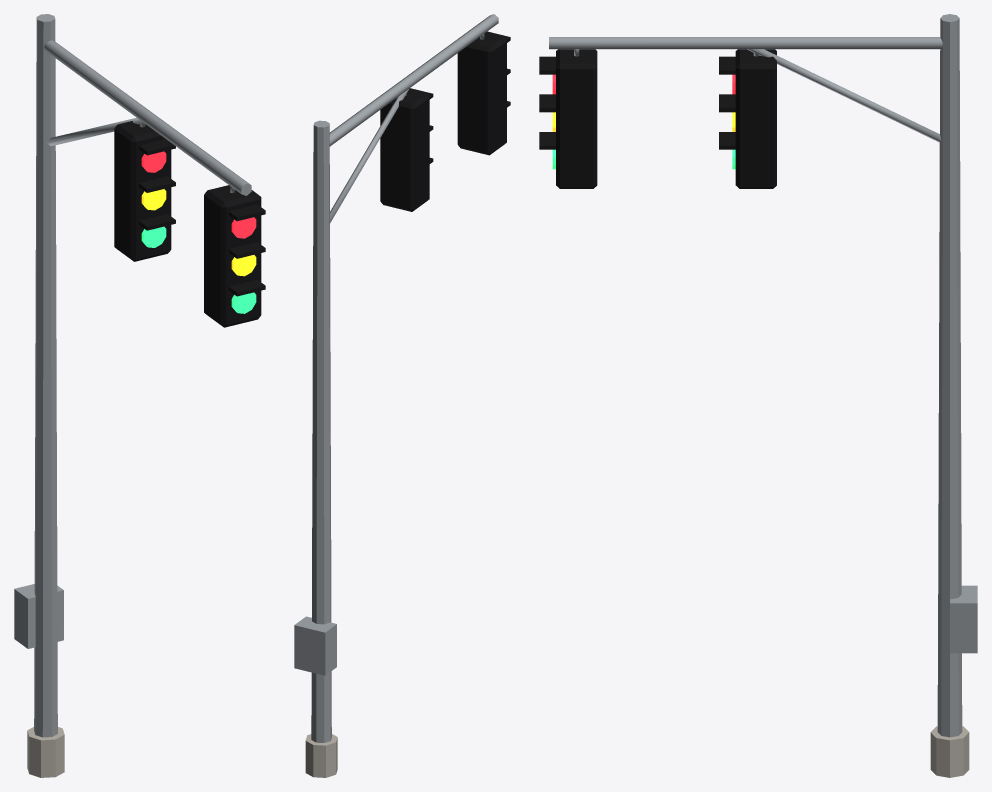
File: traffic_light.glb
The picture shows the model from 3 angles, left to right: view 1: azimuth 30°, elevation 25°; view 2: azimuth 150°, elevation 25°; view 3: azimuth 270°, elevation 25°; orthographic projection. The views are drawn at different scales.
Visible parts, largest first — view 1: traffic_light; view 2: traffic_light; view 3: traffic_light.
Part boxes in pixels (x1,y1,x2,y2): traffic_light: (14, 14, 265, 777); traffic_light: (294, 14, 510, 777); traffic_light: (539, 14, 977, 777).
Bounding box in the file's own units: 0.34 × 6 × 3.17.
